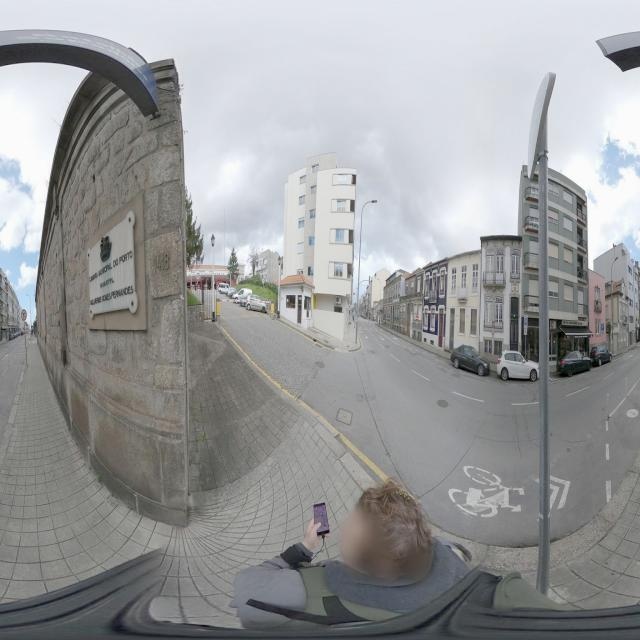car: (496, 349, 540, 381), (450, 343, 490, 376), (556, 349, 592, 377), (592, 344, 612, 364), (250, 294, 270, 314), (238, 288, 252, 306), (232, 289, 240, 302)
